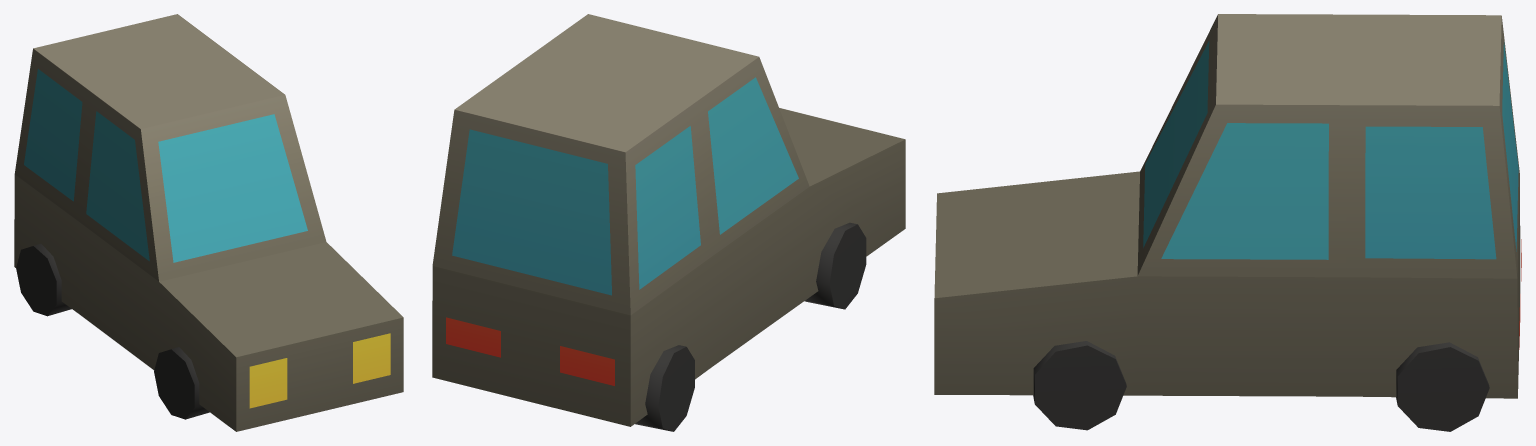
The model's file is Car_3_1.fbx.
3 renders of one model, left to right at view 1: azimuth 30°, elevation 25°; view 2: azimuth 150°, elevation 25°; view 3: azimuth 270°, elevation 25°, orthographic. The views are drawn at different scales.
Visible parts, largest first — view 1: Car_3_1; view 2: Car_3_1; view 3: Car_3_1.
Boxes of the visible parts, x1,y1,x2,y2 form: Car_3_1: (14, 14, 403, 431); Car_3_1: (432, 14, 905, 431); Car_3_1: (934, 14, 1521, 431).
Size of the model in its own units: 220 by 270 by 456.
